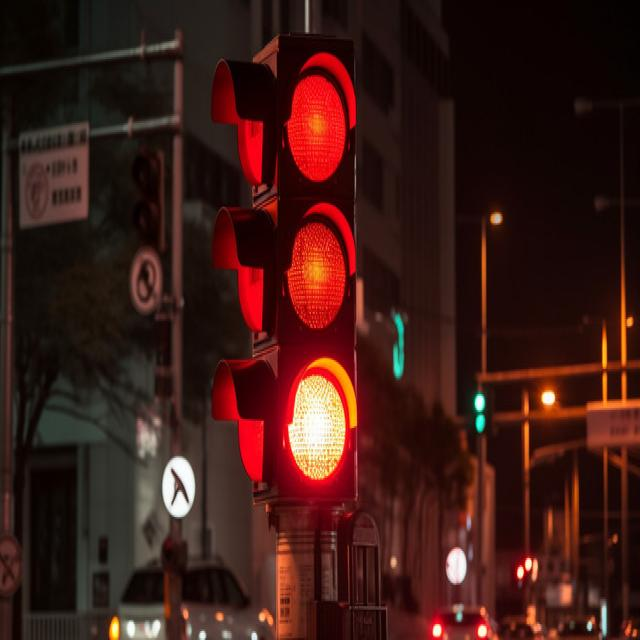red: (216, 45, 277, 489), (287, 356, 350, 482)
